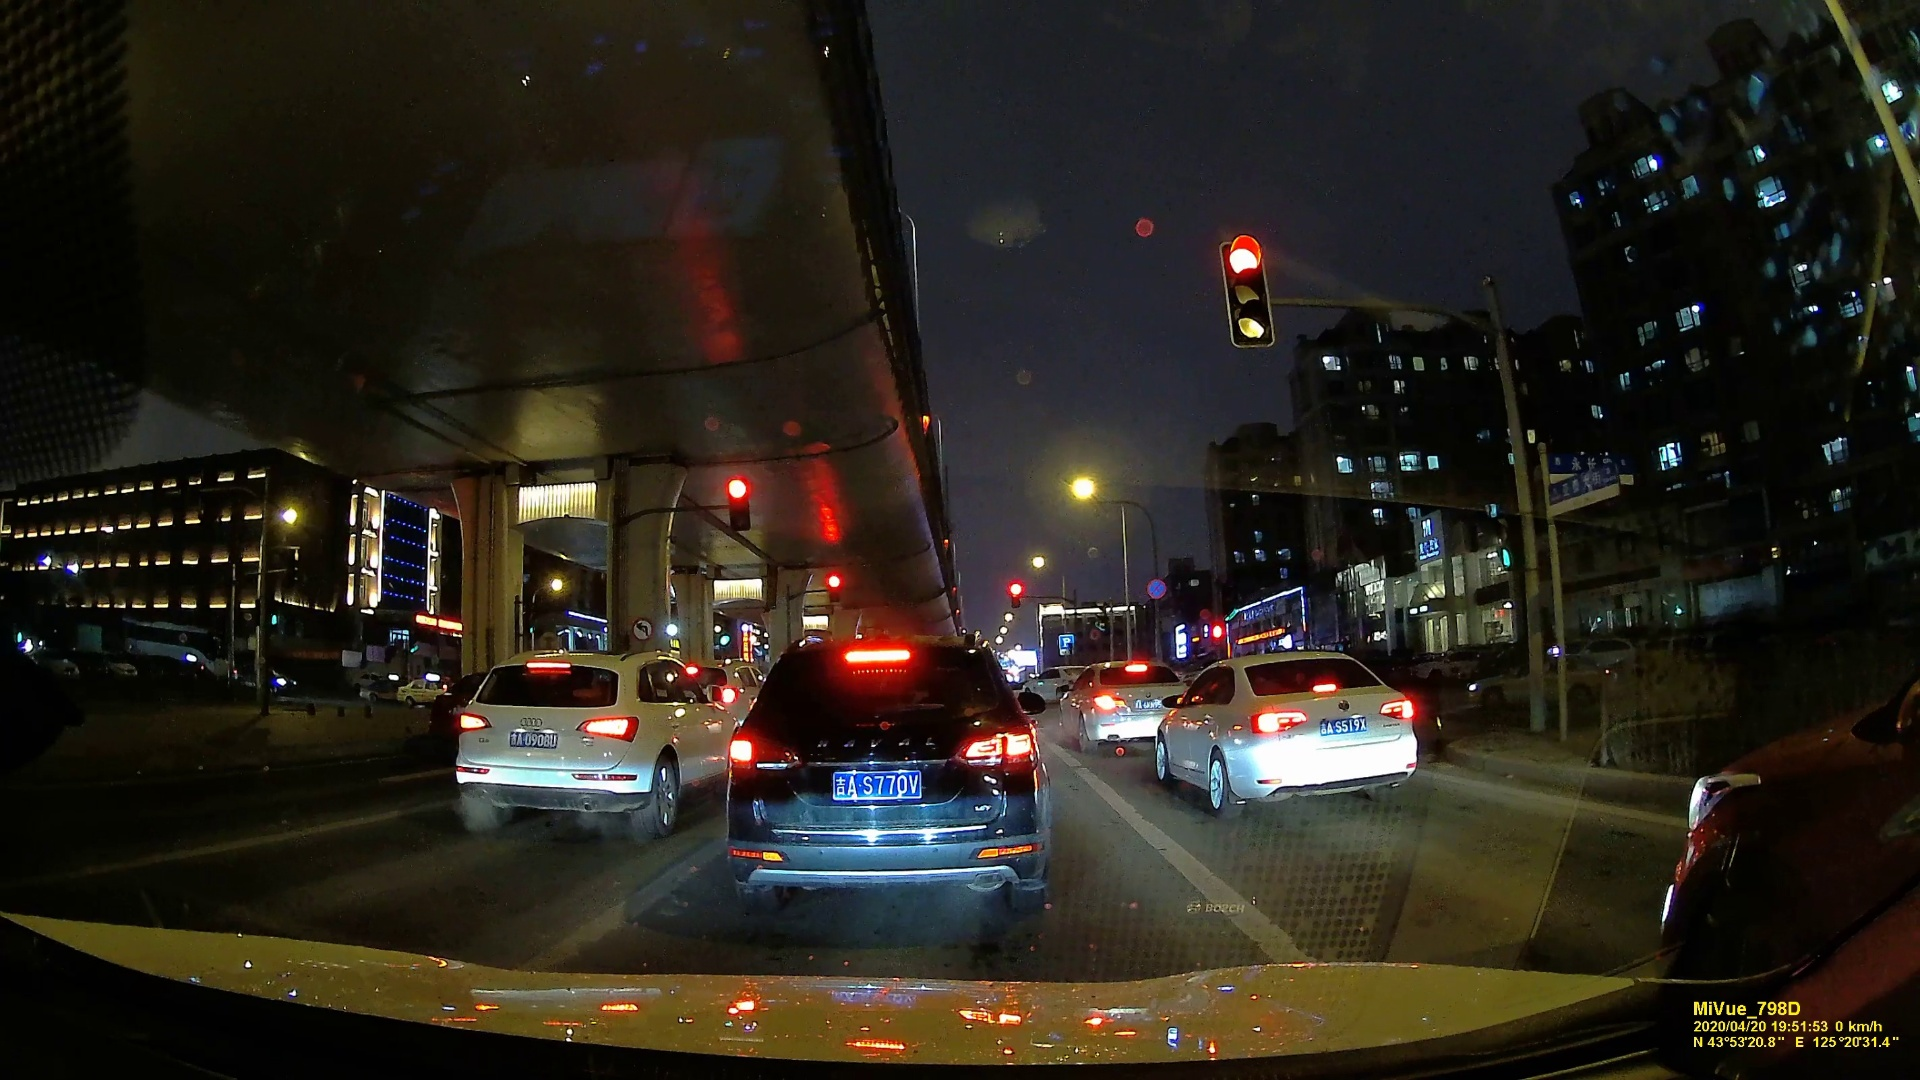traffic_sign: (1222, 240, 1266, 349), (1535, 462, 1619, 509), (1477, 502, 1516, 570), (723, 475, 749, 527), (823, 572, 843, 603), (1007, 582, 1023, 613), (1146, 576, 1167, 600), (632, 618, 653, 640)
vehicle: (723, 650, 1038, 916), (440, 644, 731, 840), (1146, 644, 1416, 814), (1065, 655, 1178, 750)
